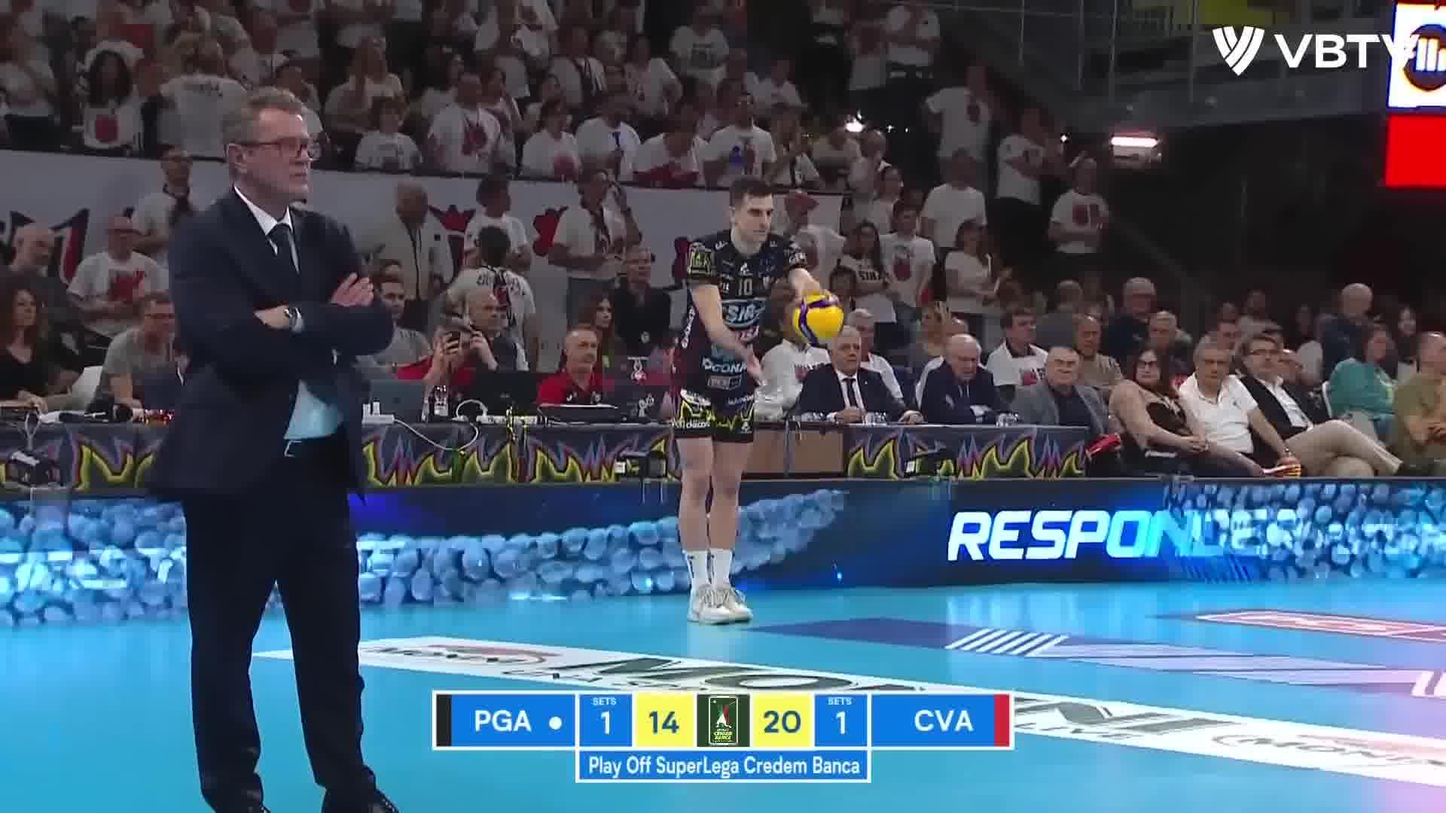balls: (781, 285, 854, 350)
